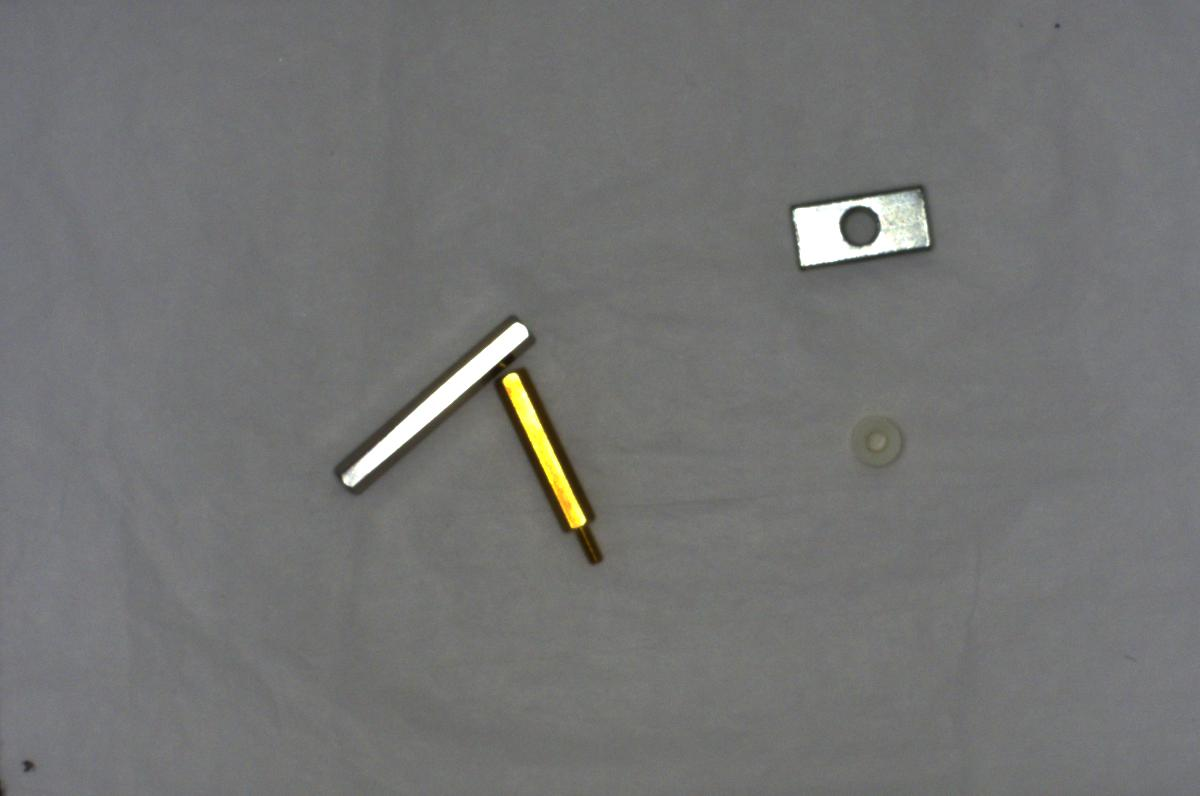Double hexagonal column: (315, 298, 540, 498)
Hexagon pillar: (490, 366, 613, 568)
Plastic cushion pillar: (845, 406, 907, 472)
Rectangular nut: (784, 179, 940, 275)
